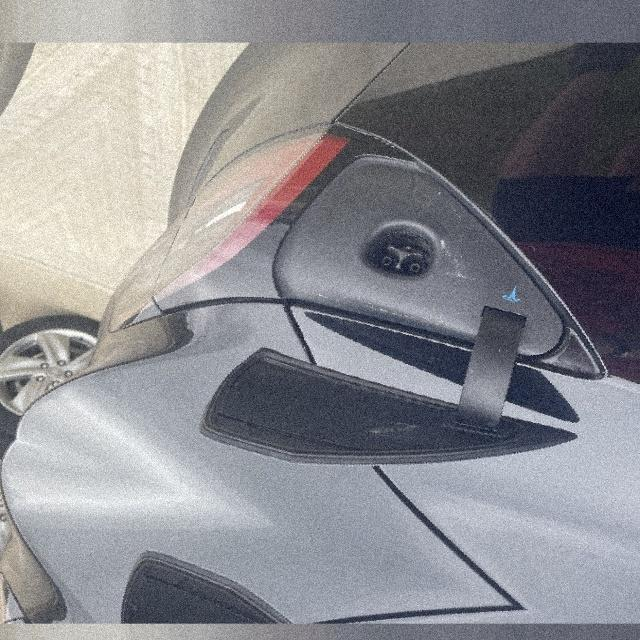Tesla Model-S-: (354, 210, 443, 295)
